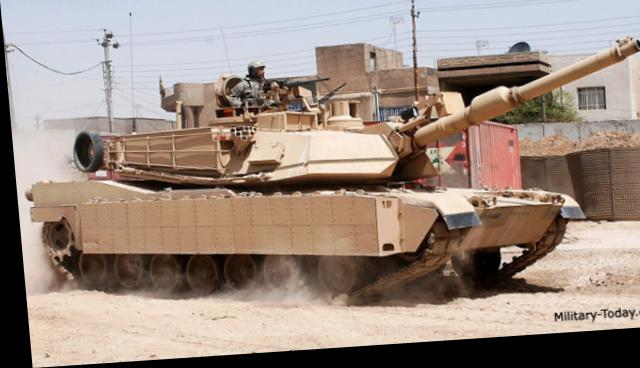other: (225, 61, 269, 113)
tank: (22, 73, 572, 306)
